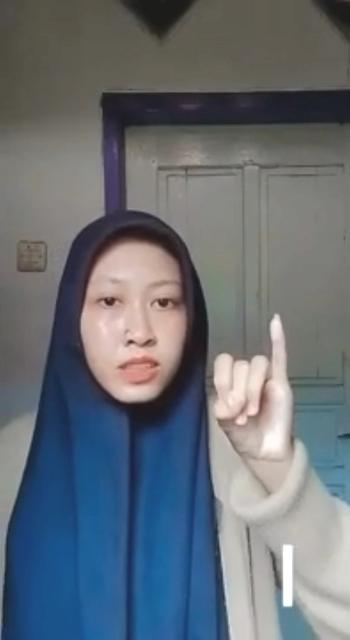I: (210, 314, 298, 460)
